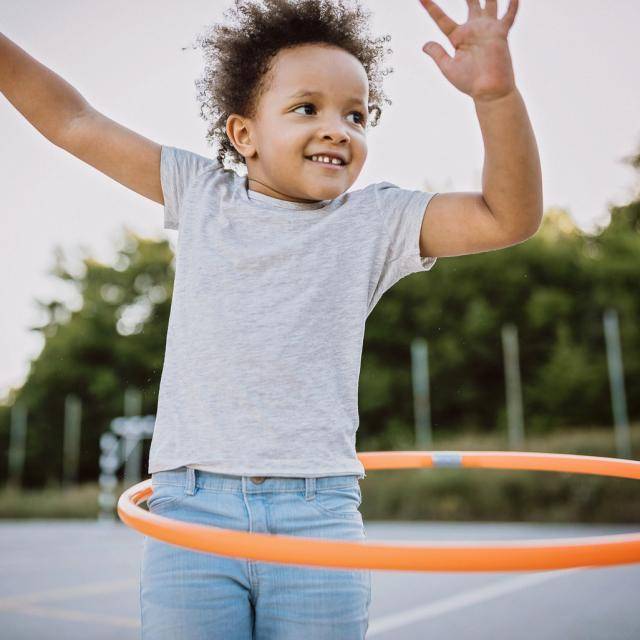non-dog: (1, 0, 545, 640)
